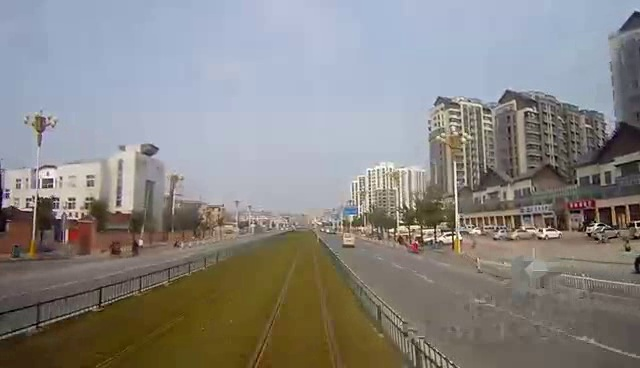car: (337, 229, 362, 249)
